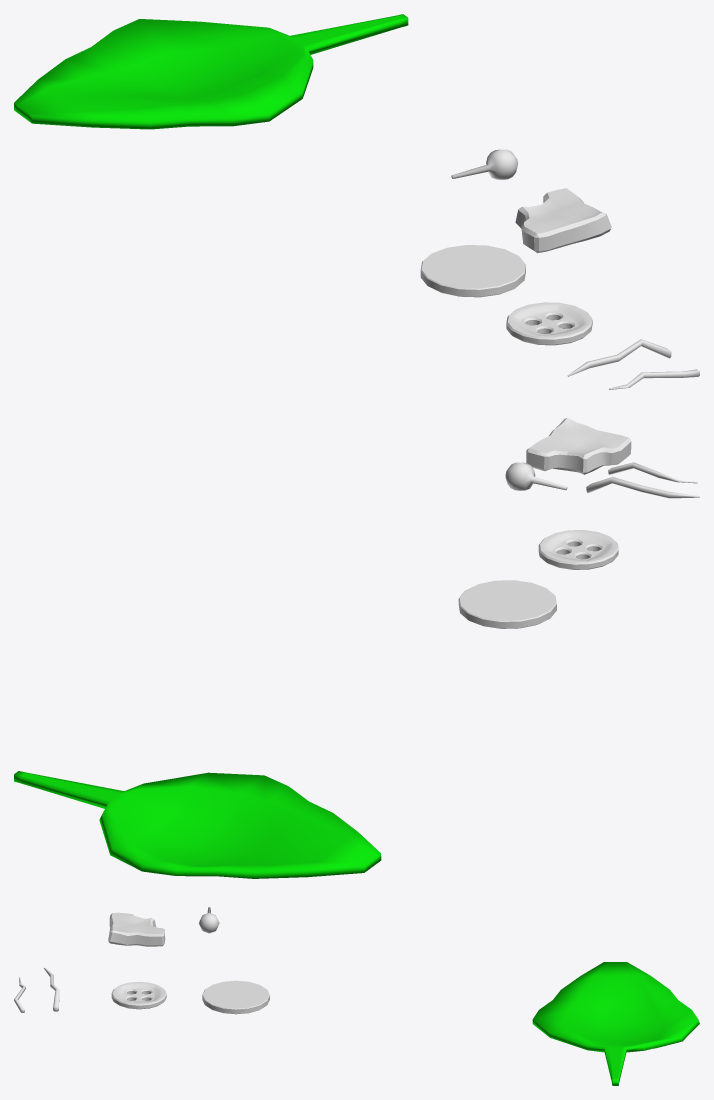
The model's file is Props.fbx.
3 views of the same model, one above another, from view 1: azimuth 30°, elevation 25°; view 2: azimuth 150°, elevation 25°; view 3: azimuth 270°, elevation 25° (orthographic). The views are drawn at different scales.
Parts seen in each view (by area): view 1: Plane.001, Cent, Piece of cracker, Button, Earring, Twig1; view 2: Plane.001, Cent, Piece of cracker, Button, Earring, Twig1; view 3: Plane.001, Cent, Piece of cracker, Button, Earring.
Boxes of the visible parts, x1=… form: Plane.001: x1=14, y1=14, x2=408, y2=129; Cent: x1=420, y1=245, x2=525, y2=297; Piece of cracker: x1=515, y1=188, x2=611, y2=252; Button: x1=506, y1=302, x2=592, y2=345; Earring: x1=451, y1=149, x2=517, y2=179; Twig1: x1=567, y1=339, x2=671, y2=376; Plane.001: x1=14, y1=771, x2=381, y2=878; Cent: x1=458, y1=580, x2=556, y2=628; Piece of cracker: x1=526, y1=418, x2=631, y2=474; Button: x1=538, y1=530, x2=618, y2=569; Earring: x1=505, y1=462, x2=567, y2=490; Twig1: x1=586, y1=477, x2=699, y2=498; Plane.001: x1=532, y1=962, x2=699, y2=1085; Cent: x1=202, y1=980, x2=269, y2=1014; Piece of cracker: x1=108, y1=912, x2=165, y2=946; Button: x1=111, y1=981, x2=166, y2=1009; Earring: x1=199, y1=907, x2=219, y2=933.
Size of the model in its own units: 17.44 by 7.16 by 3.27.
